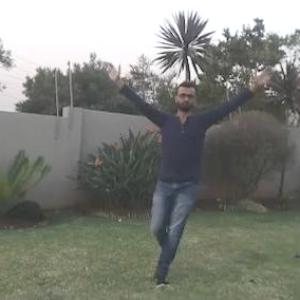takeoff: (107, 66, 273, 278)
